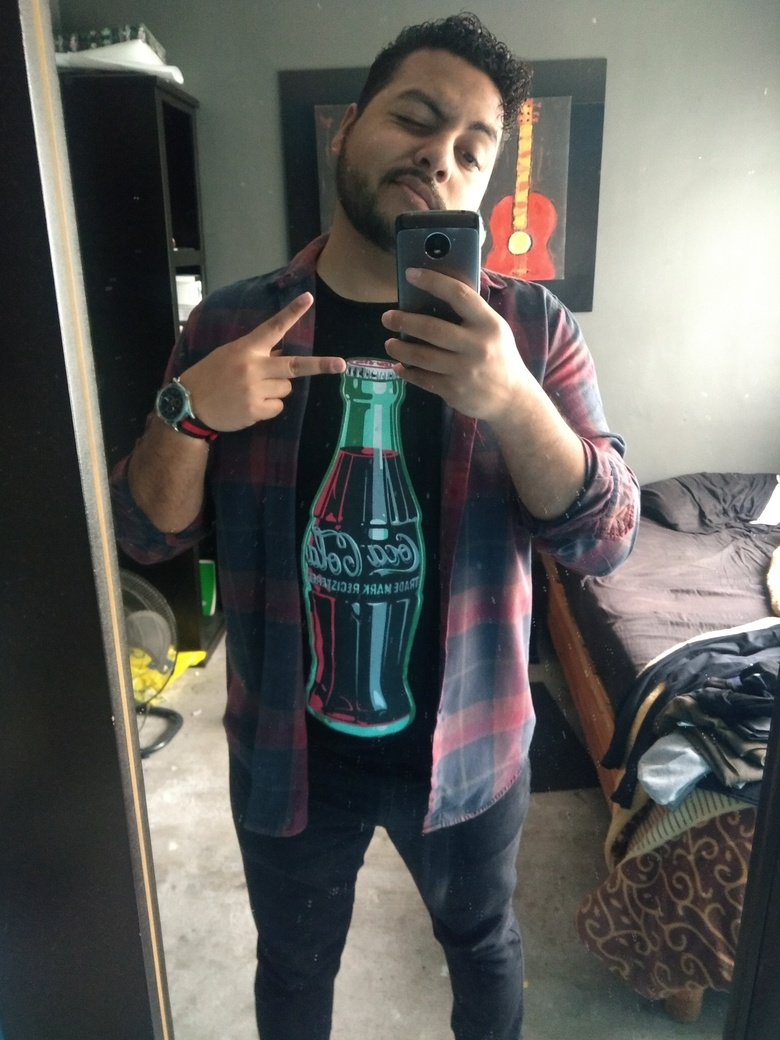Yoshi: (320, 22, 552, 273)
